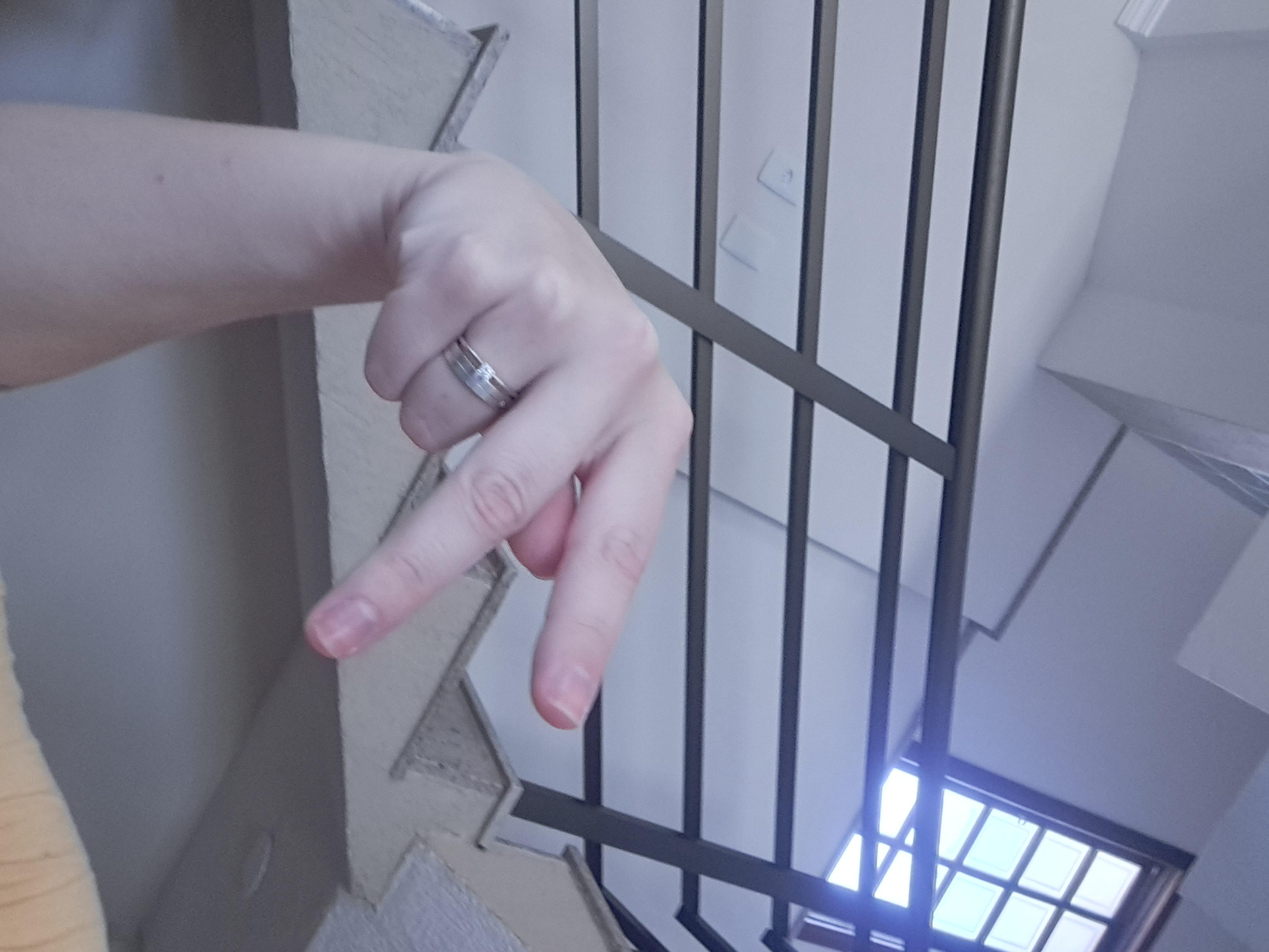P: (171, 432, 1006, 738)
